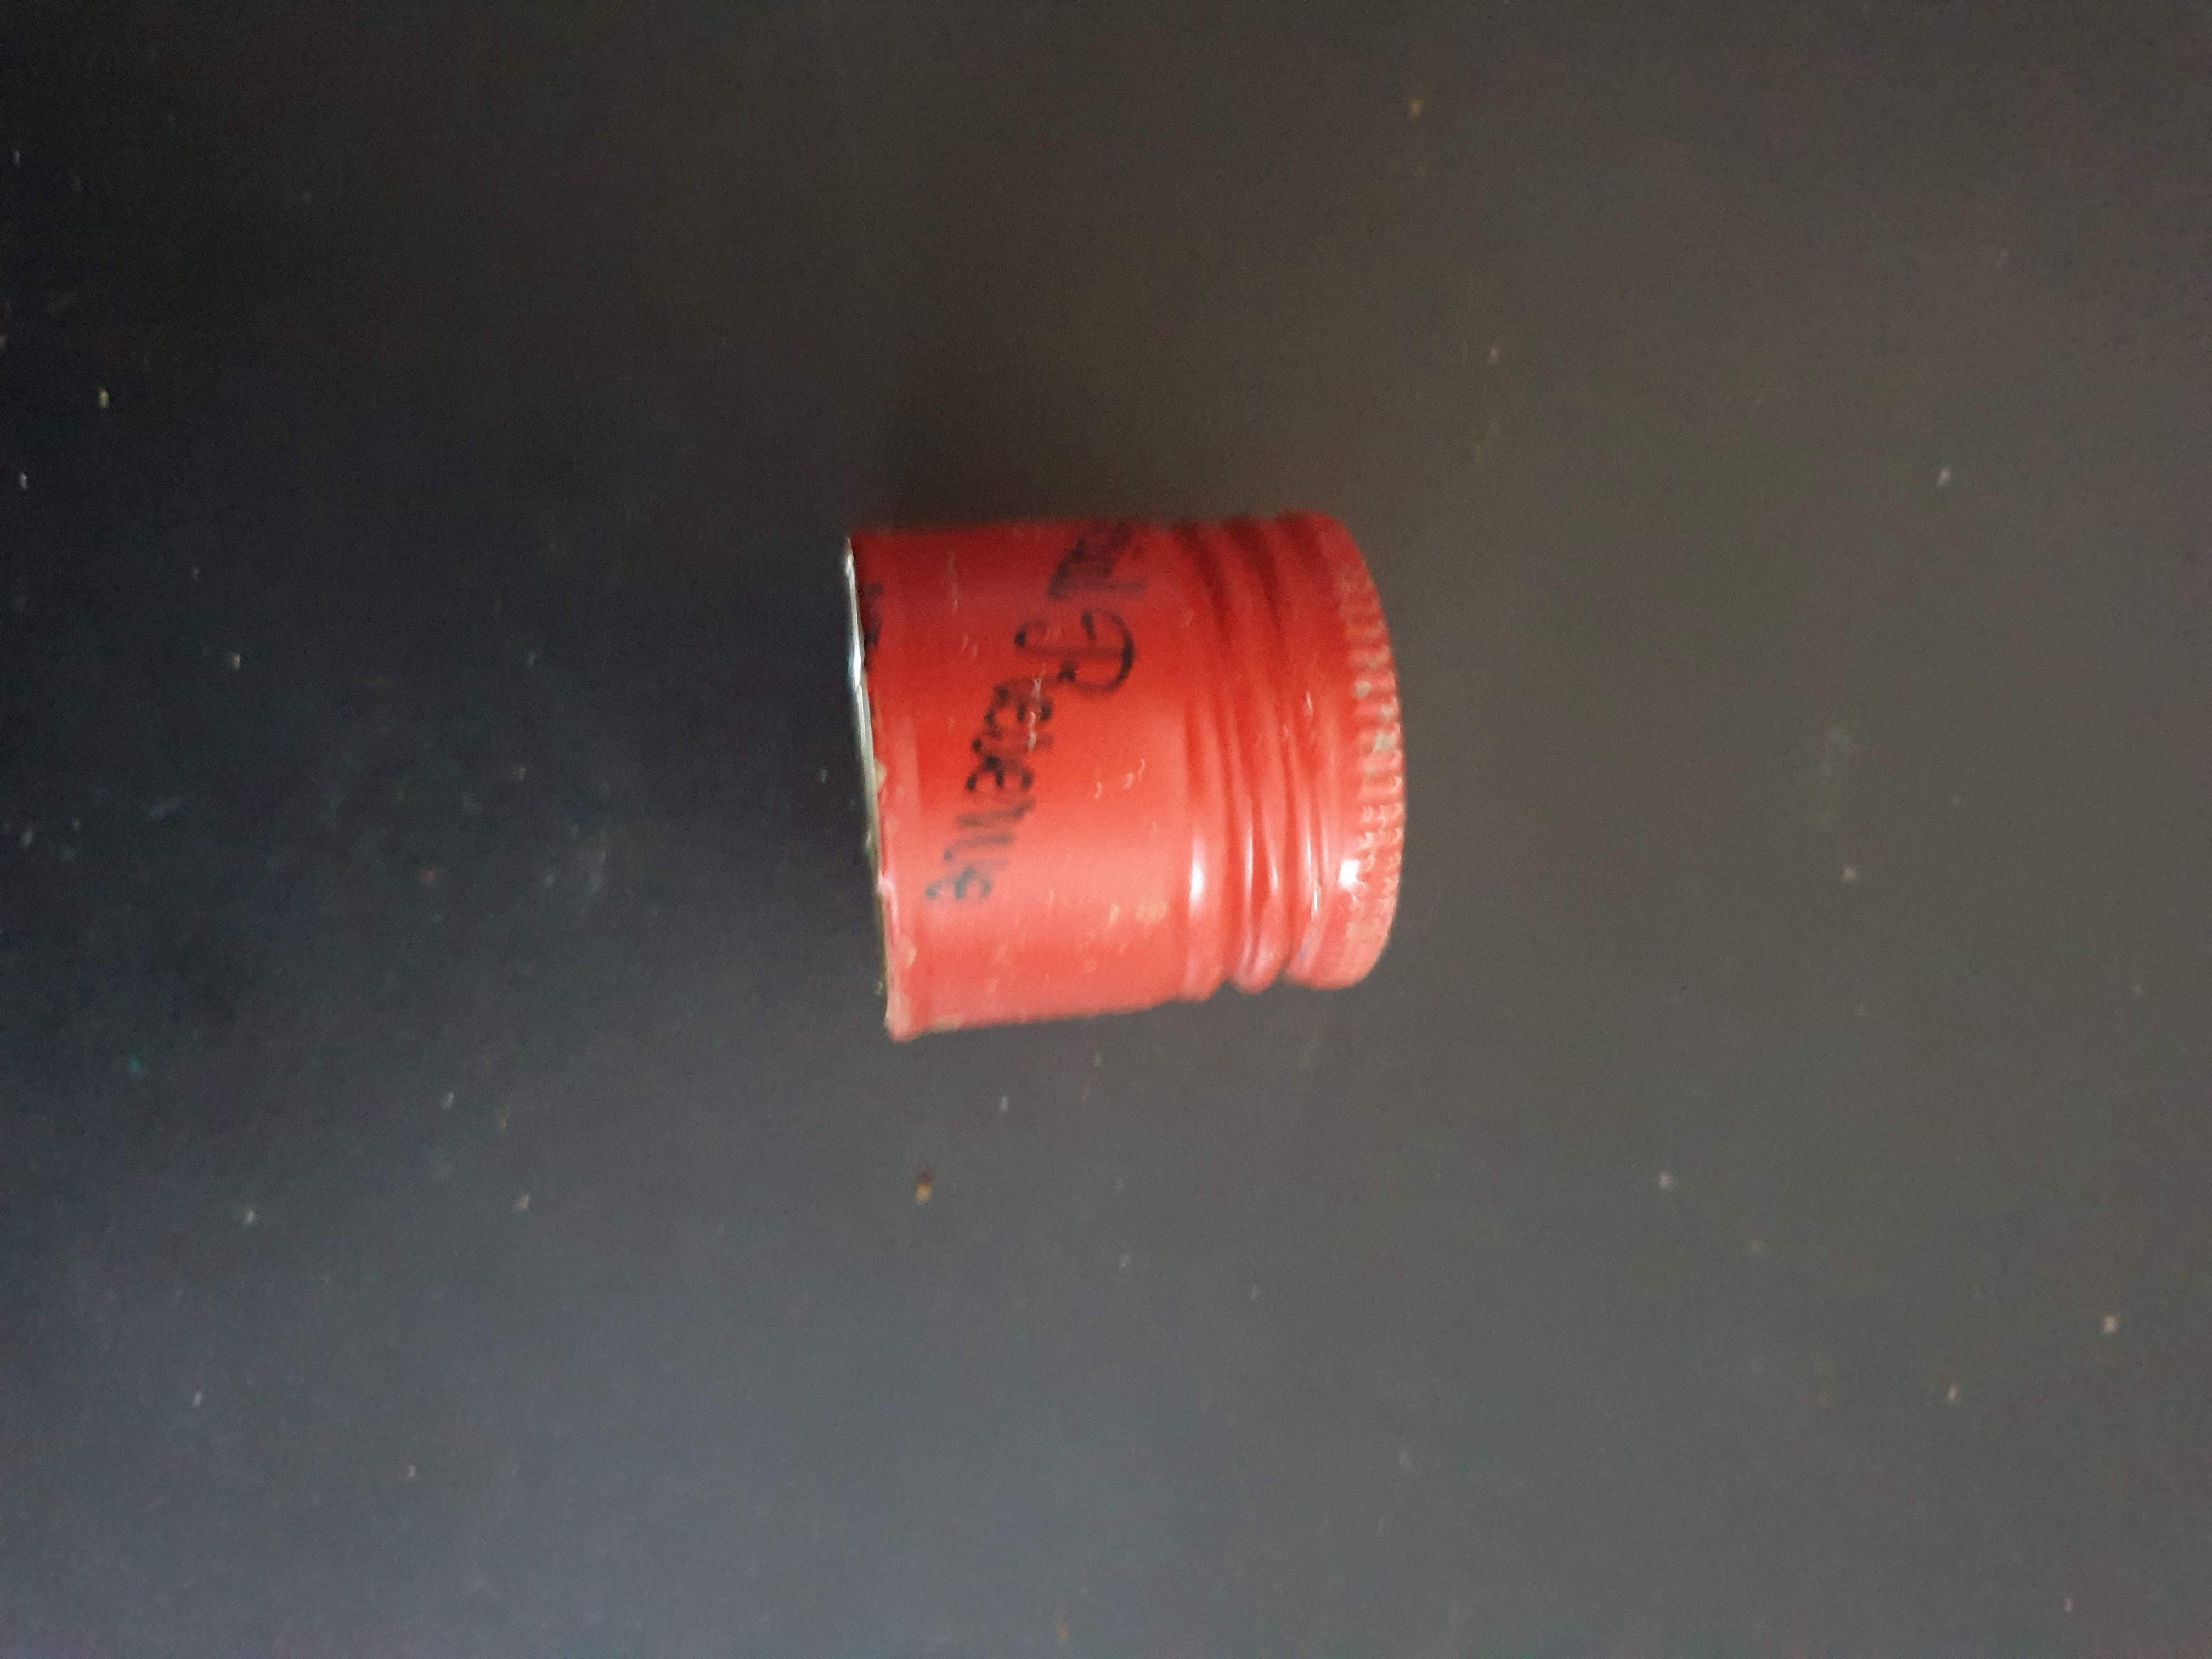metal: (794, 479, 1435, 1077)
